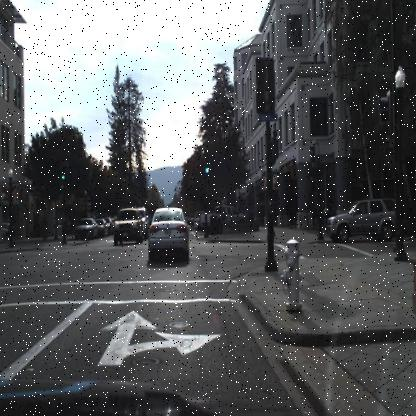car: (325, 195, 400, 247), (146, 205, 190, 267), (198, 204, 243, 230), (113, 208, 144, 245), (71, 217, 96, 240), (96, 218, 107, 234)
trafficLight-Green: (60, 160, 66, 180), (60, 170, 66, 189), (204, 155, 210, 174)
